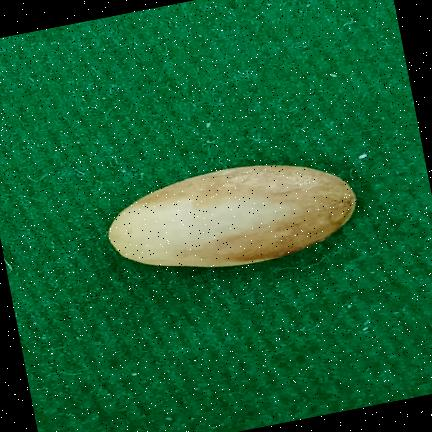parchment: (109, 165, 356, 267)
